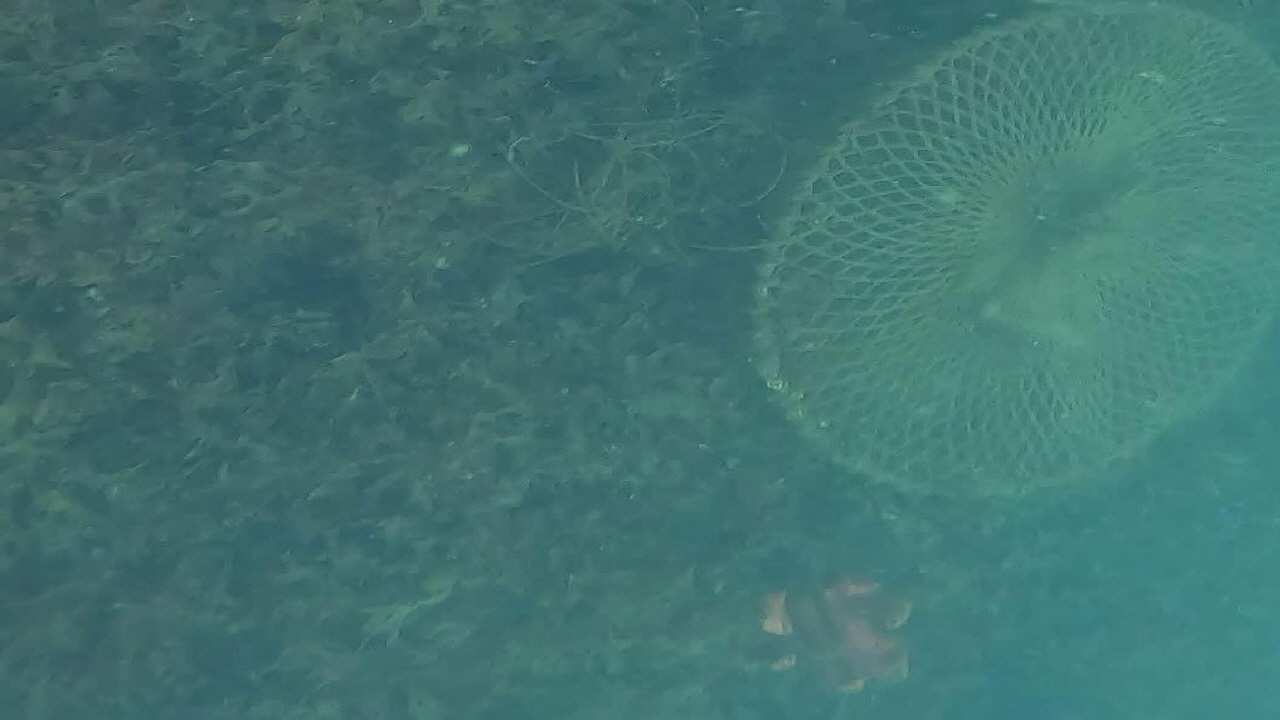circular fish trap: (749, 0, 1280, 498)
